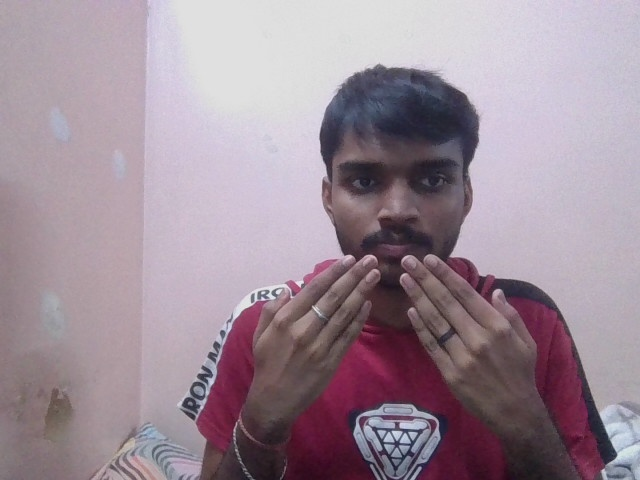Thank You: (255, 252, 543, 425)
